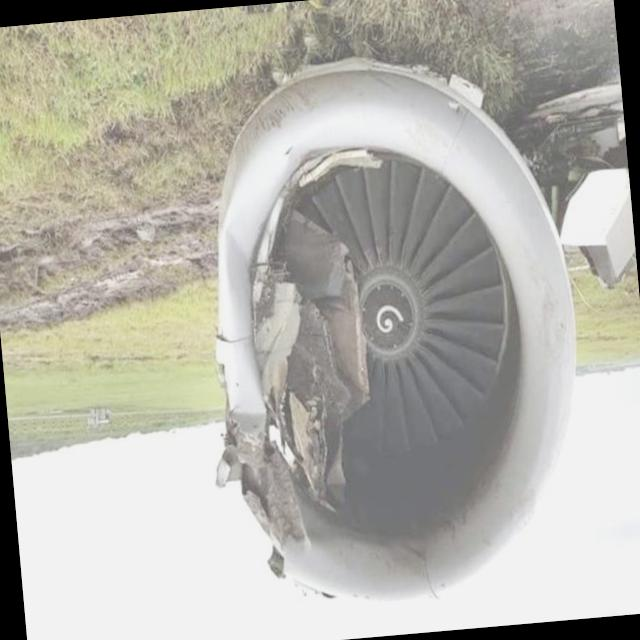dent: (222, 211, 255, 298), (230, 386, 266, 431)
